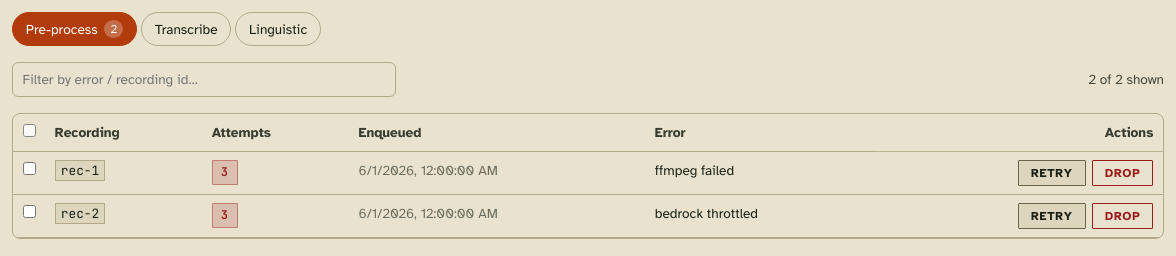
Test: DlqList (#107) › filters rows by error text
The image size is (1176, 256).
Expected: the text "rec-1" is shown, [55,160,105,181]
Type "bedrock" into the search field named "Filter messages" at [204, 79], box [12,62,396,97]
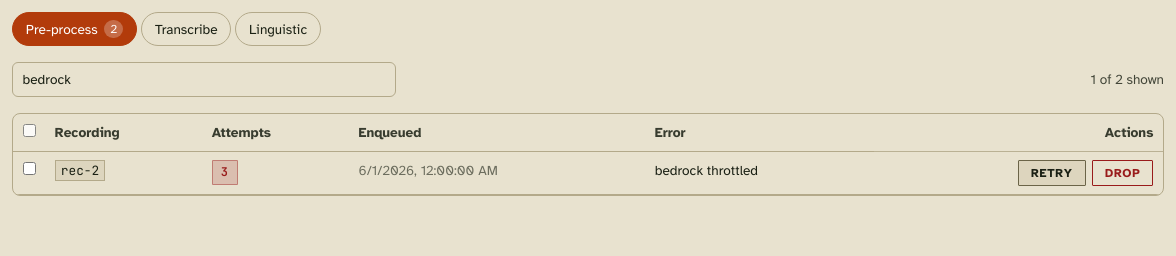
Expected: the text "rec-2" is shown, [55,160,105,181]
Expected: the text "rec-1" is gone
